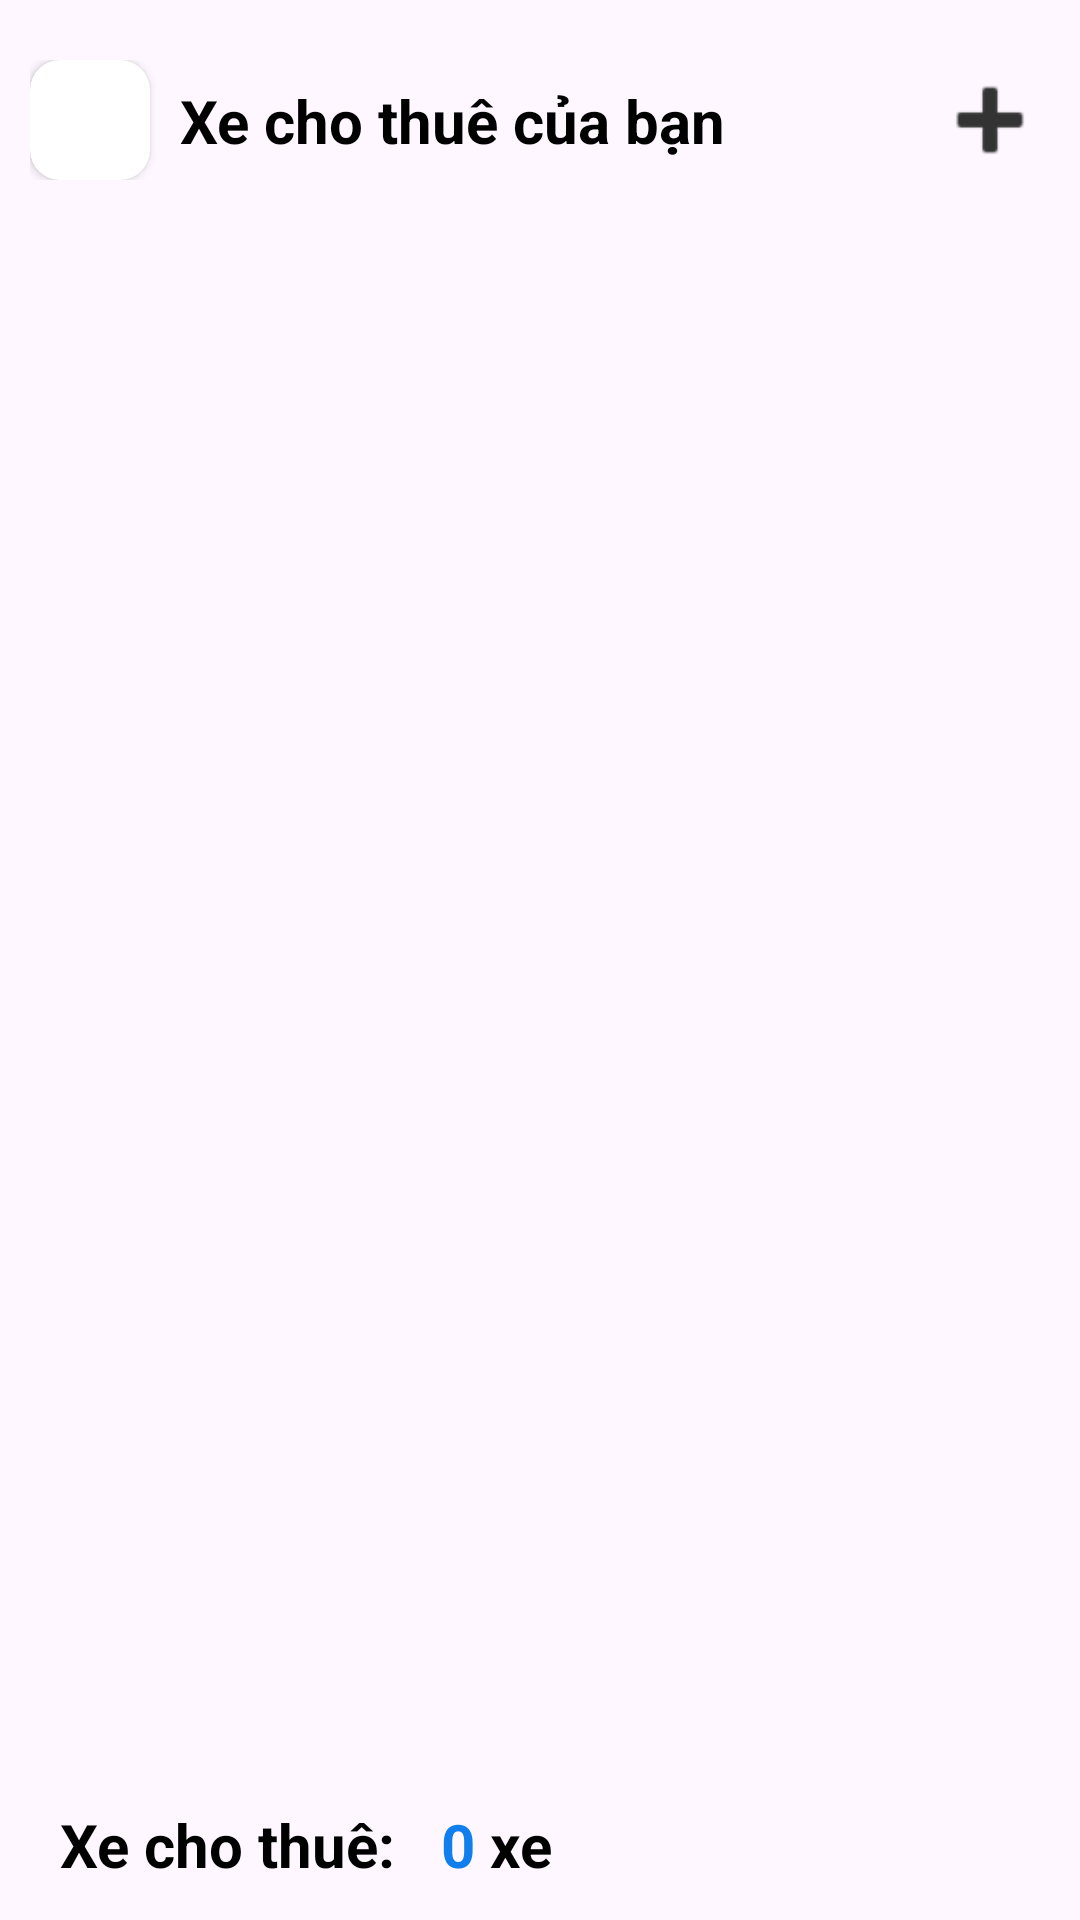

Icons on this 1080px x 1920px Android screen, each with the point to tap as (x=x, y=y):
add: (x=990, y=120)
